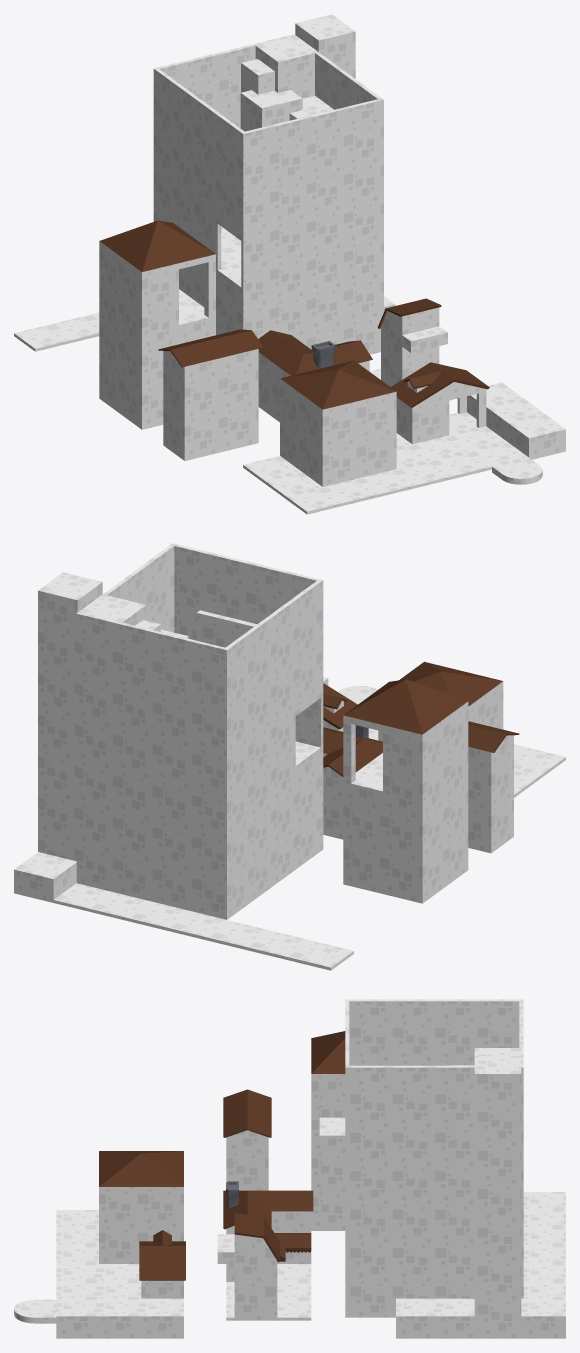
The model's file is ChrisBlueLevel3.fbx.
3 views of the same model, one above another, from view 1: azimuth 30°, elevation 25°; view 2: azimuth 150°, elevation 25°; view 3: azimuth 270°, elevation 25° (orthographic). The views are drawn at different scales.
Visible parts, largest first — view 1: block_half_201, block_185, block_half_203, block_215, block_columns_148, block_132, block_144, block_half_206, block_133, roof_point_149, roof_point_214, block_half_207 (+34 smaller); view 2: block_185, block_half_206, block_half_203, block_213, block_half_201, block_columns_148, block_146, block_145, block_132, block_half_204, roof_point_149, block_half_207 (+18 smaller); view 3: block_half_204, block_213, block_185, block_half_203, block_215, block_143, block_half_207, roof_point_214, block_133, roof_134, roof_barn_100, block_217 (+35 smaller).
Part boxes in pixels (x1,y1,x2,y2): block_half_201: (241,98,383,288); block_185: (179,226,383,354); block_half_203: (153,67,221,269); block_215: (280,378,396,486); block_columns_148: (99,241,215,333); block_132: (163,351,221,457); block_144: (120,319,178,426); block_half_206: (157,35,291,128); block_133: (221,349,258,448); roof_point_149: (100,220,215,271); roof_point_214: (280,360,396,409); block_half_207: (217,114,244,240); block_185: (76,741,323,919); block_half_206: (80,613,224,814); block_half_203: (223,599,295,815); block_213: (38,572,102,861); block_half_201: (170,543,323,747); block_columns_148: (343,701,468,800); block_146: (383,785,445,900); block_145: (343,765,382,890); block_132: (468,735,513,850); block_half_204: (76,545,174,780); roof_point_149: (343,679,467,734); block_half_207: (292,581,320,715); block_half_204: (349,1065,523,1221); block_213: (474,1056,521,1316); block_185: (345,1221,523,1317); block_half_203: (396,999,523,1065); block_215: (99,1187,183,1263); block_143: (311,1117,345,1227); block_half_207: (349,999,395,1065); roof_point_214: (99,1151,183,1186); block_133: (226,1135,268,1190); roof_134: (223,1089,271,1137); roof_barn_100: (234,1213,279,1262); block_217: (234,1279,277,1317).
Size of the model in its own units: 81 by 69.5 by 130.
Materials: 5 (2 with a texture image).
